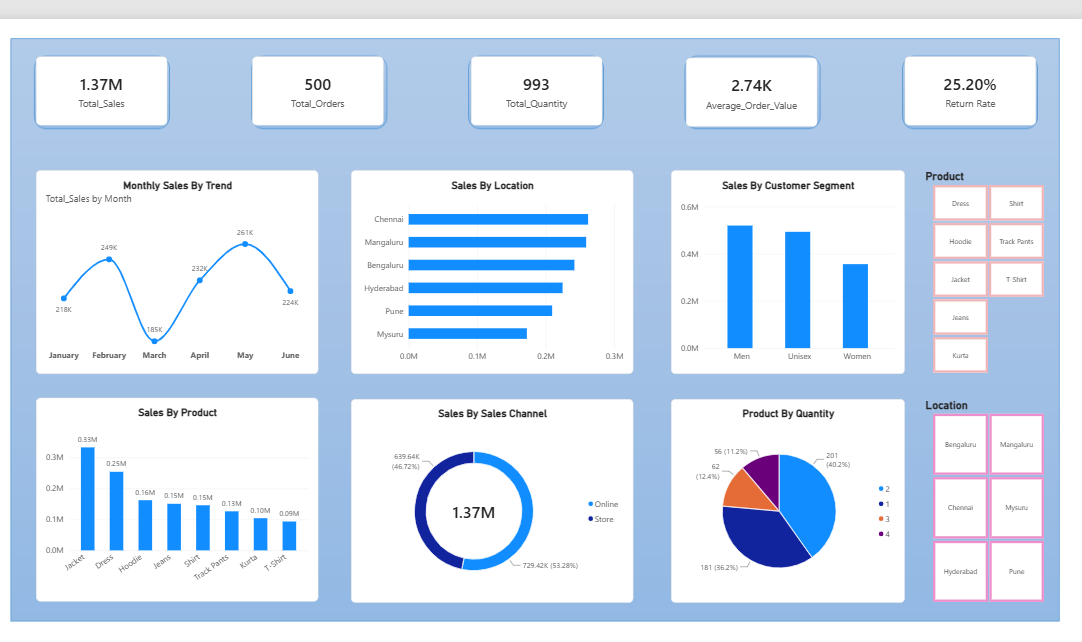

The dashboard page shown, as its layout file describes it:
{"tool":"powerbi","page":{"name":"Retail_Sales_Overview","canvas":[1920,1080],"ordinal":0},"visuals":[{"type":"textbox","box":[10,0,280,280],"z":0},{"type":"card","fields":{"Values":["Raw_Sales_Data.Total_Sales"]},"box":[95.2,64.9,227.2,119],"z":1000},{"type":"card","fields":{"Values":["Raw_Sales_Data.Total_Orders"]},"box":[469.6,64.9,227.2,119],"z":2000},{"type":"card","fields":{"Values":["Raw_Sales_Data.Total_Quantity"]},"box":[848.3,64.9,227.2,119],"z":3000},{"type":"card","fields":{"Values":["Raw_Sales_Data.Average_Total_Values"]},"box":[1220.6,67.1,227.2,119],"z":4000},{"type":"card","fields":{"Values":["Raw_Sales_Data.Return Rate"]},"box":[1599.3,64.9,227.2,119],"z":5000},{"type":"lineChart","title":"Monthly Sales By Trend","fields":{"Category":["Raw_Sales_Data.Order_Date.Variation.Date Hierarchy.Month"],"Y":["Raw_Sales_Data.Total_Sales"]},"box":[95.2,261.9,489.1,352.8],"z":6000},{"type":"clusteredColumnChart","title":"Sales By Product","fields":{"Category":["Raw_Sales_Data.Product"],"Y":["Raw_Sales_Data.Total_Sales"]},"box":[95.2,655.7,489,353],"z":7000},{"type":"clusteredBarChart","title":"Sales By Location","fields":{"Category":["Raw_Sales_Data.Location"],"Y":["Raw_Sales_Data.Total_Sales"]},"box":[640.6,261.9,489,353],"z":8000},{"type":"donutChart","title":"Sales By Sales Channel","fields":{"Category":["Raw_Sales_Data.Sales_Channel"],"Y":["Raw_Sales_Data.Total_Sales"]},"box":[640.6,657.9,489,353],"z":9000},{"type":"clusteredColumnChart","title":"Sales By Customer Segment","fields":{"Category":["Raw_Sales_Data.Category"],"Y":["Raw_Sales_Data.Total_Sales"]},"box":[1194.6,261.9,404.7,352.8],"z":10000},{"type":"pieChart","title":"Product By Quantity","fields":{"Category":["Raw_Sales_Data.Quantity"],"Y":["CountNonNull(Raw_Sales_Data.Product)"]},"box":[1195,658,405,353],"z":11000},{"type":"slicer","fields":{"Values":["Raw_Sales_Data.Product"]},"box":[1627.4,261.9,231.6,352.8],"z":12000},{"type":"slicer","fields":{"Values":["Raw_Sales_Data.Location"]},"box":[1627,658,232,353],"z":13000}]}

Visuals, with their boxes in screenshot pixels (x1, y1, x2, y2):
textbox: 0, 17, 147, 178
card - Raw_Sales_Data.Total_Sales: 35, 54, 166, 123
card - Raw_Sales_Data.Total_Orders: 251, 54, 382, 123
card - Raw_Sales_Data.Total_Quantity: 469, 54, 600, 123
card - Raw_Sales_Data.Average_Total_Values: 684, 56, 814, 124
card - Raw_Sales_Data.Return Rate: 902, 54, 1033, 123
"Monthly Sales By Trend" lineChart: 35, 168, 317, 371
"Sales By Product" clusteredColumnChart: 35, 395, 317, 598
"Sales By Location" clusteredBarChart: 349, 168, 631, 371
"Sales By Sales Channel" donutChart: 349, 396, 631, 599
"Sales By Customer Segment" clusteredColumnChart: 669, 168, 902, 371
"Product By Quantity" pieChart: 669, 396, 902, 599
slicer - Raw_Sales_Data.Product: 918, 168, 1051, 371
slicer - Raw_Sales_Data.Location: 918, 396, 1051, 599
